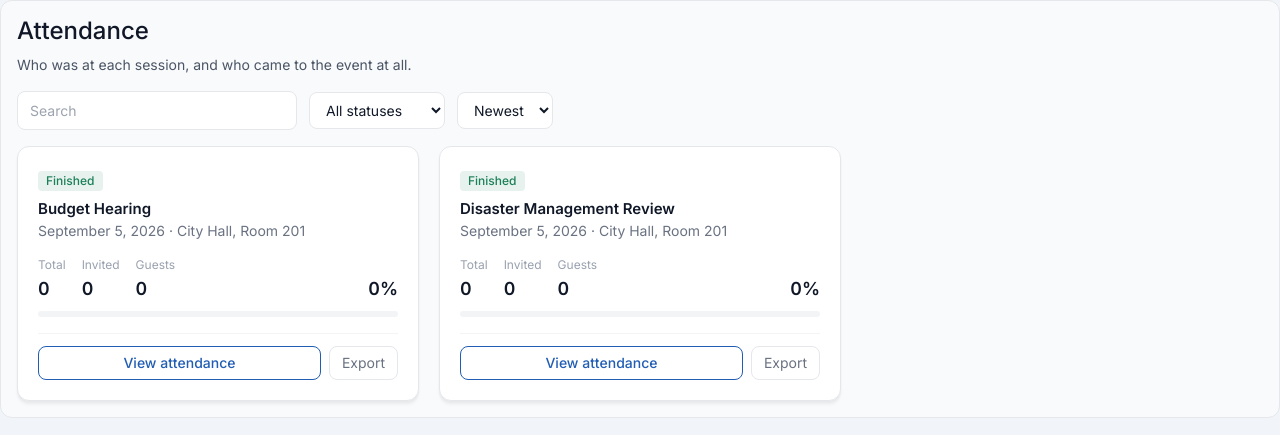
it: the attendance grid › turns the order round when asked
Expected: the heading "Budget Hearing" is shown, [38,199,151,218]
Select "Oldest" in the dropdown named "Order" at coordinates (505, 110), box [457,92,553,129]
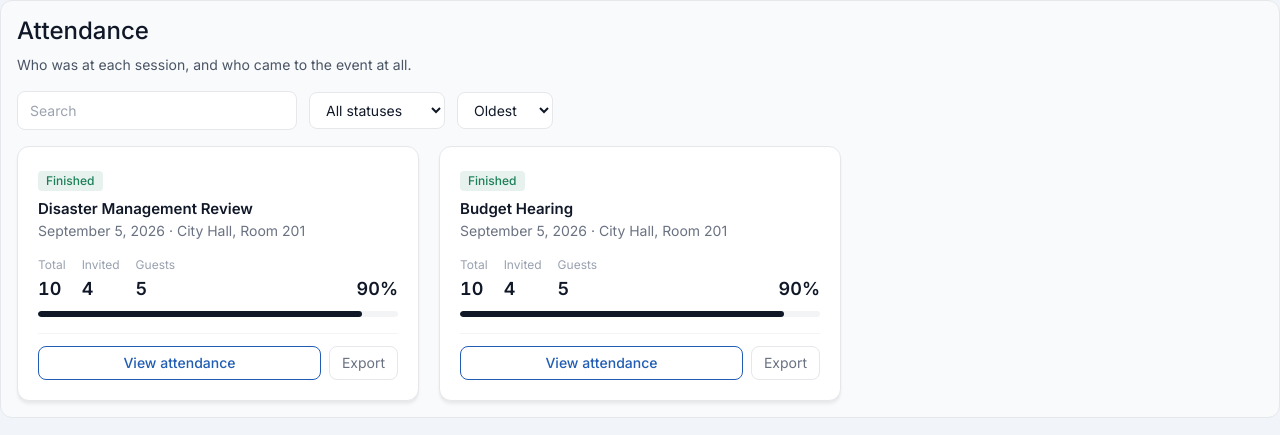
Now the headings read "Disaster Management Review", "Budget Hearing", in this order, box [38,199,253,218]; [460,199,573,218]
